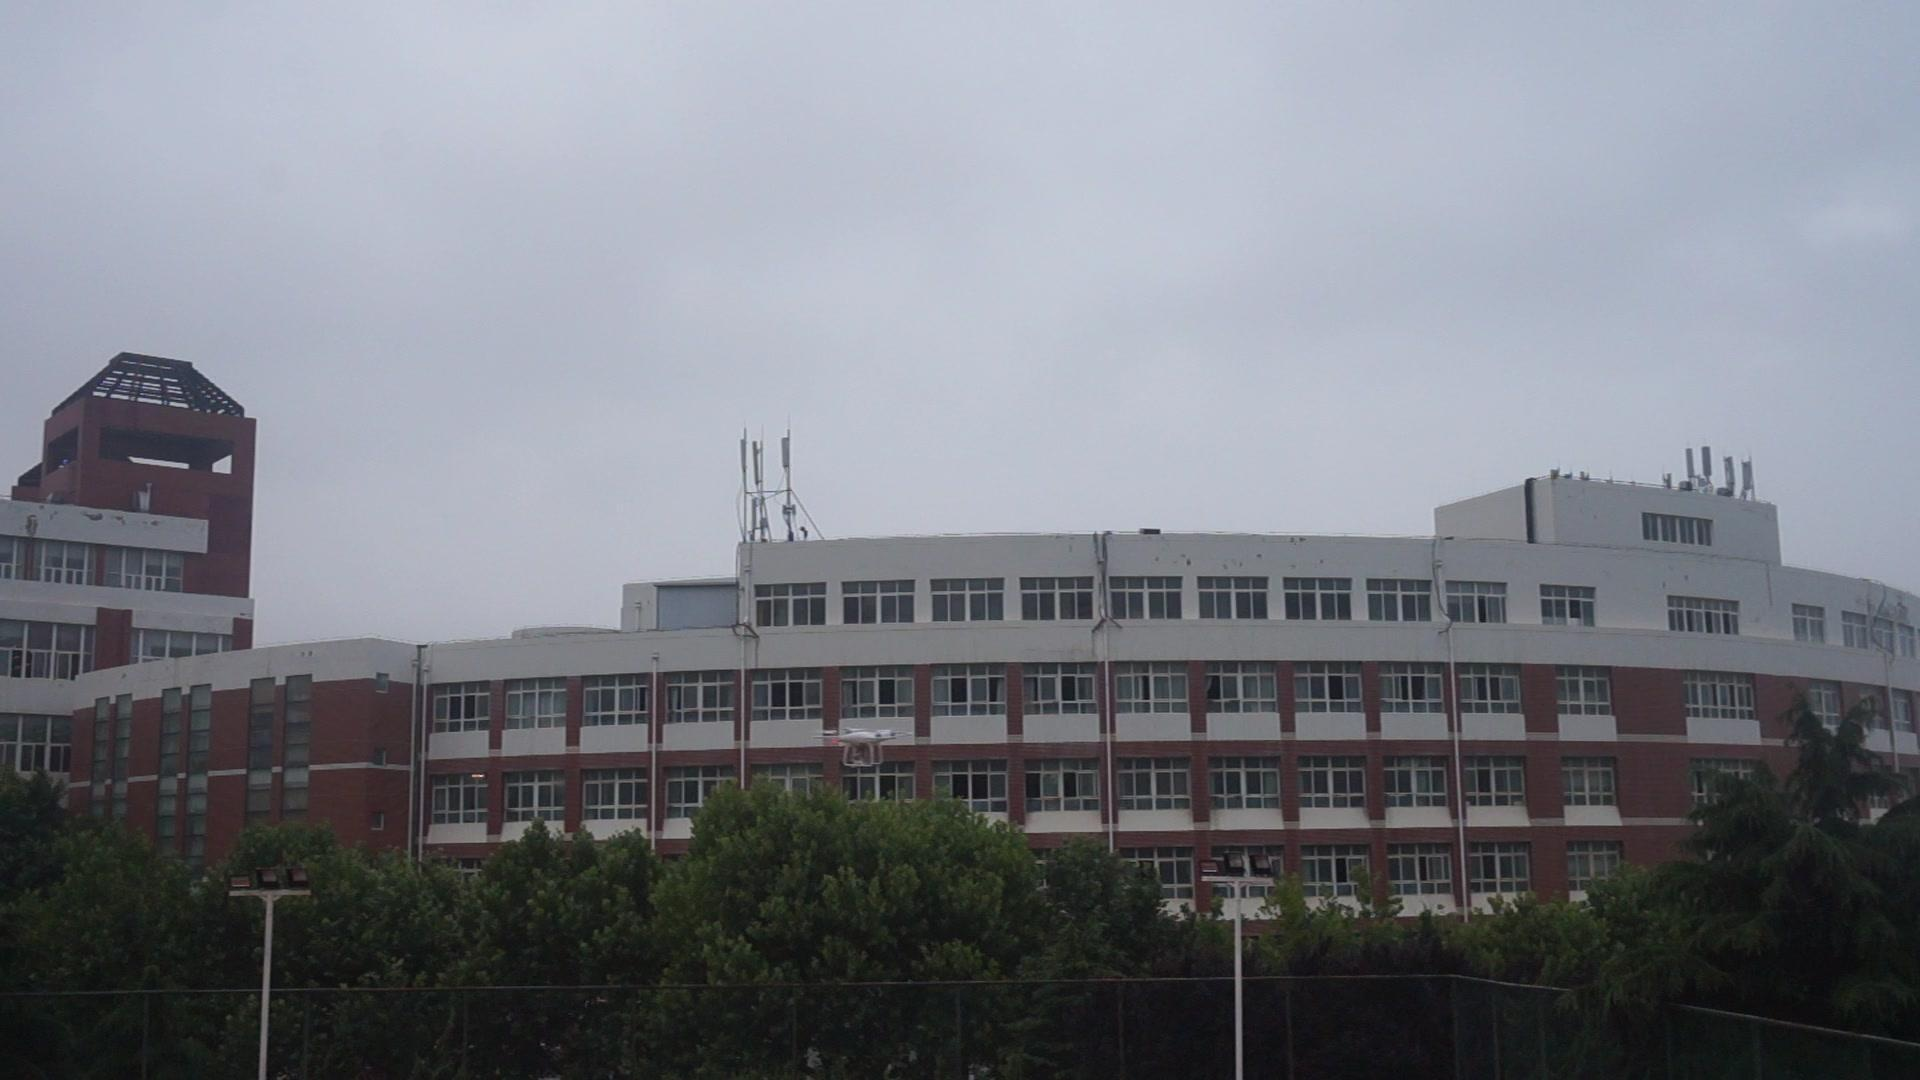UAV: (814, 728, 907, 767)
